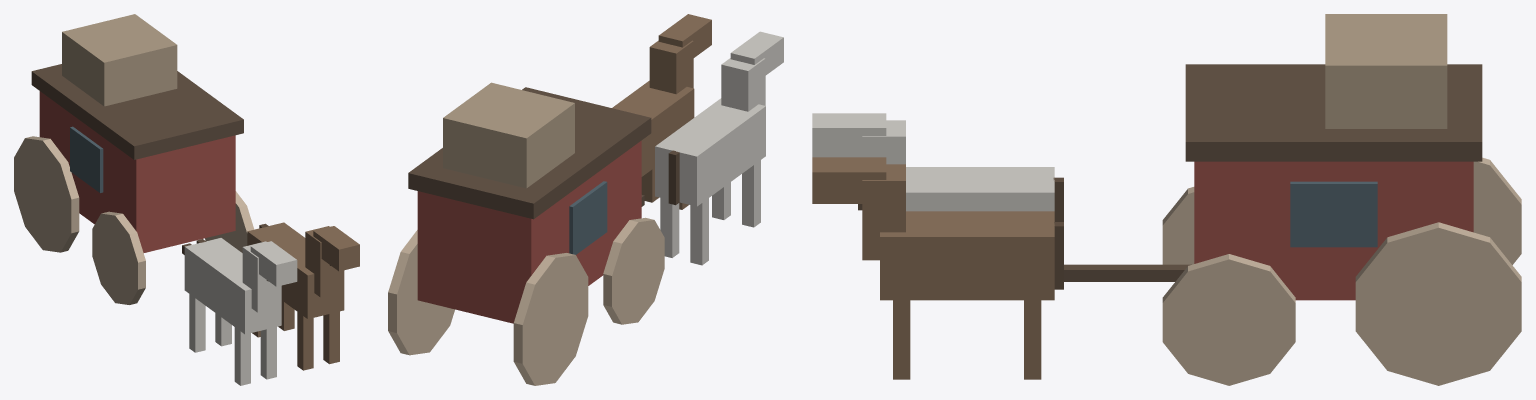
The model's file is w_kutsche.glb.
3 views of the same model, side by side, from view 1: azimuth 30°, elevation 25°; view 2: azimuth 150°, elevation 25°; view 3: azimuth 270°, elevation 25° (orthographic). The views are drawn at different scales.
Visible parts, largest first — view 1: koerper; view 2: koerper; view 3: koerper.
Part boxes in pixels (left/top/right/bottom): koerper: left=14, top=14, right=359, bottom=385; koerper: left=388, top=14, right=783, bottom=385; koerper: left=812, top=14, right=1521, bottom=385.
Bounding box in the file's own units: 2.25 × 3.85 × 8.13.
